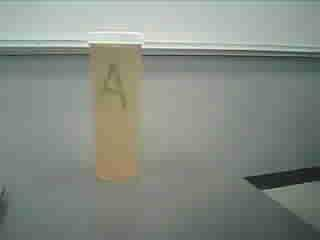Bottle A: (77, 23, 160, 196)
